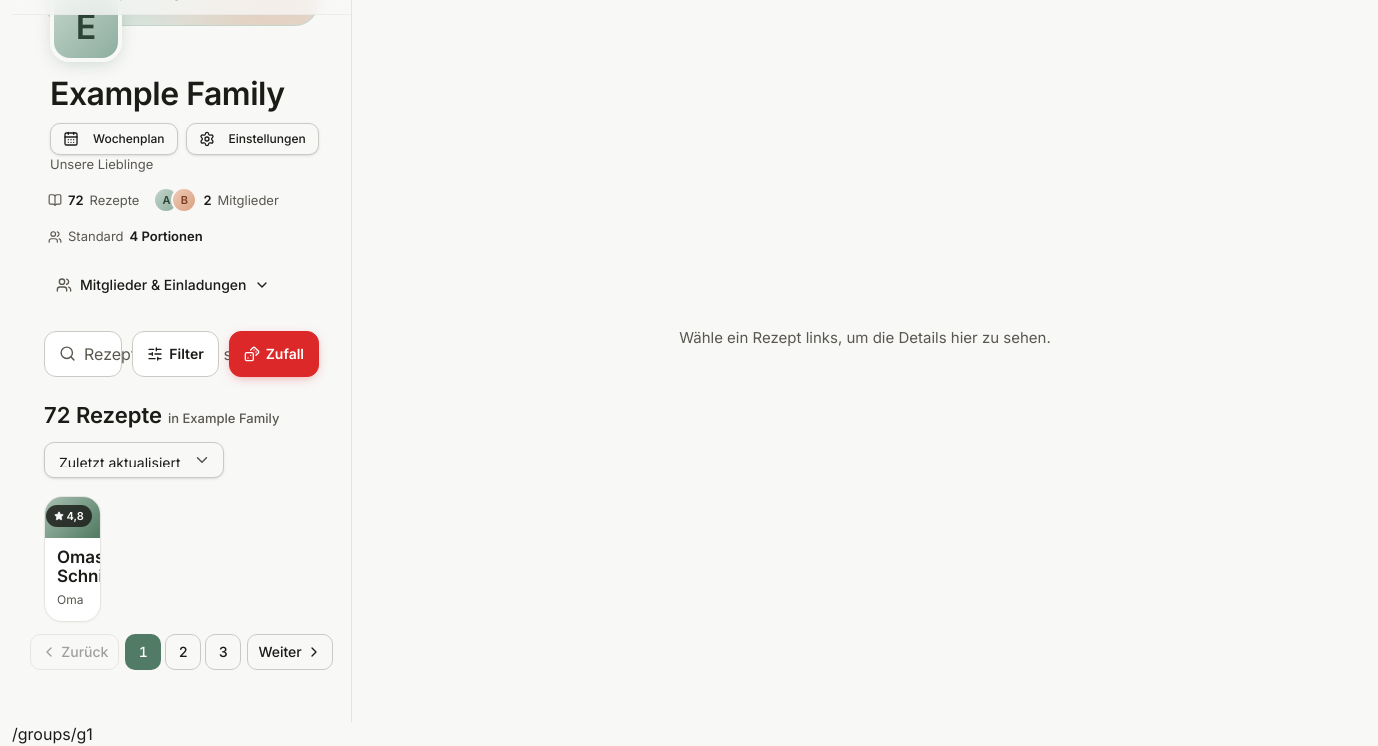
it: <GroupDetailPage /> › clicking next writes ?page=2 to the URL (PAGE-1)
(page scrolled)
Click the button with aria-label "Nächste Seite": click(290, 652) [247, 634, 333, 670]
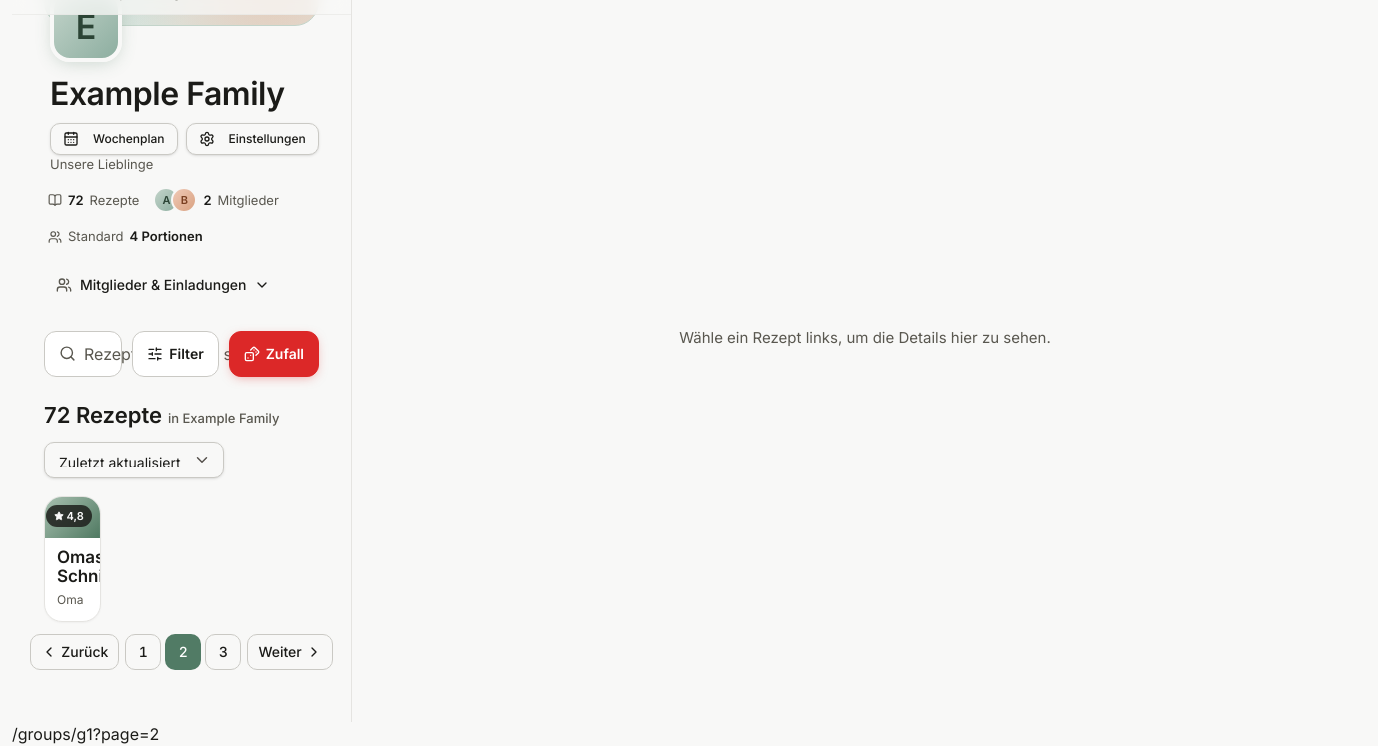
Expected: the text with test id "location-probe" shows "page=2", [93, 724, 159, 744]
